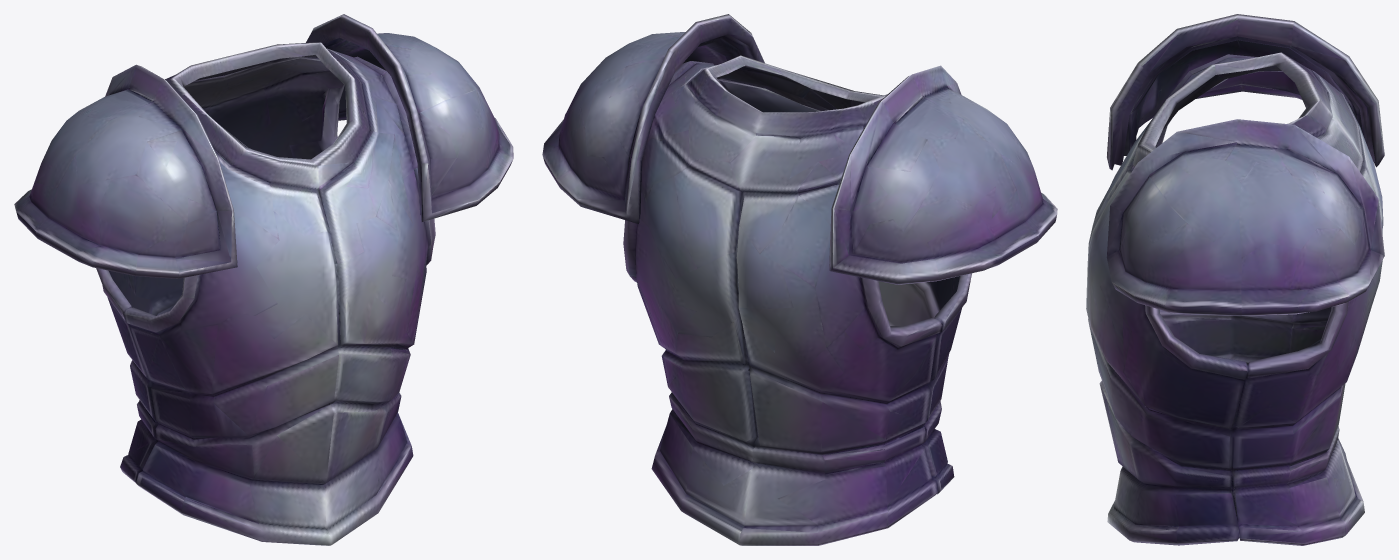
Rendered from mirror_carapace.glb.
The picture shows the model from 3 angles, left to right: view 1: azimuth 30°, elevation 25°; view 2: azimuth 150°, elevation 25°; view 3: azimuth 270°, elevation 25°; orthographic projection. The views are drawn at different scales.
Visible parts, largest first — view 1: Mesh_0; view 2: Mesh_0; view 3: Mesh_0.
Part boxes in pixels (x1,y1,x2,y2): Mesh_0: [14, 14, 513, 545]; Mesh_0: [542, 14, 1057, 545]; Mesh_0: [1086, 14, 1384, 545].
Bounding box in the file's own units: 1 × 0.9311 × 0.5501.
1 material, 1 textured.
